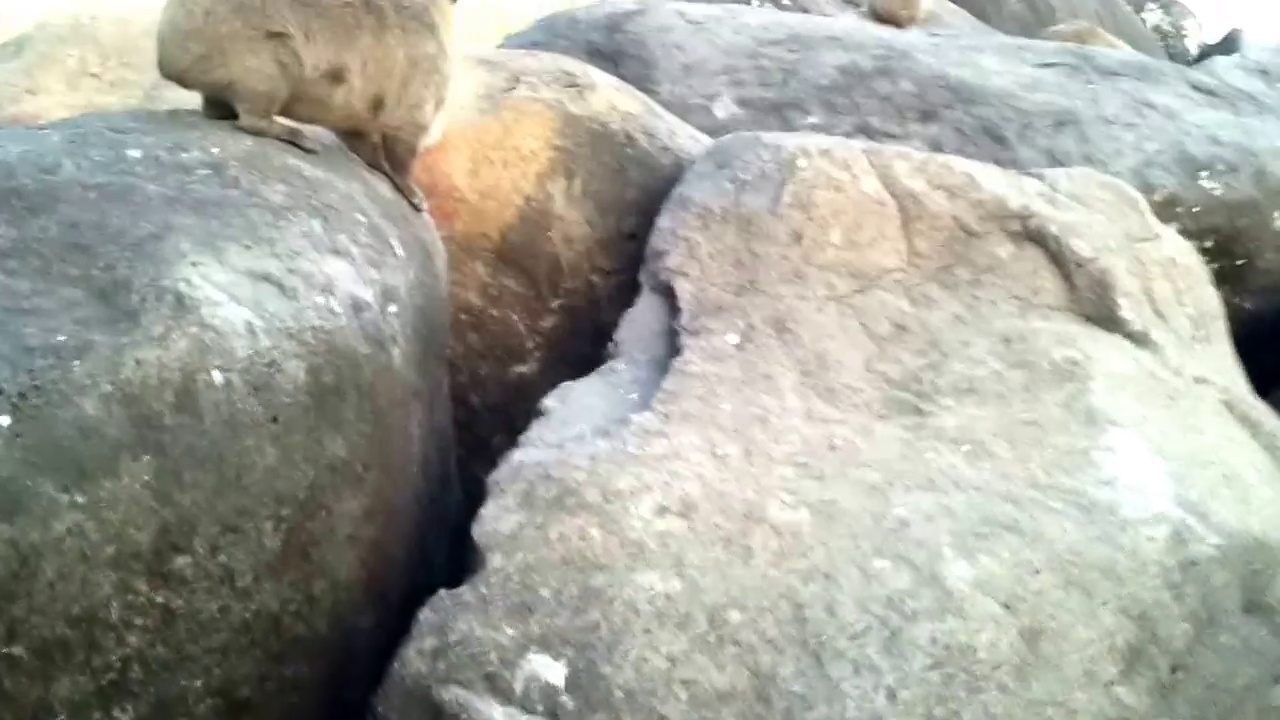Rock Hyrex: (154, 1, 454, 210)
